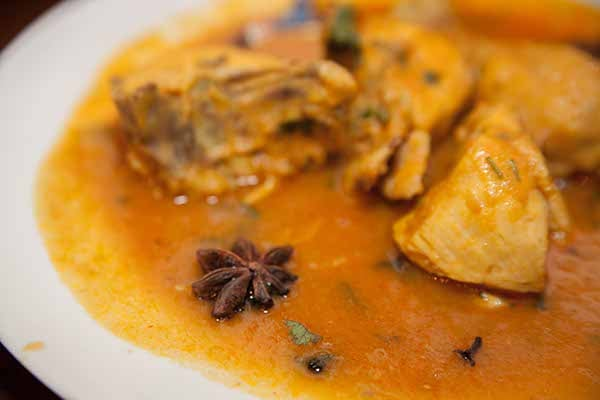sandwich: (22, 5, 597, 388)
